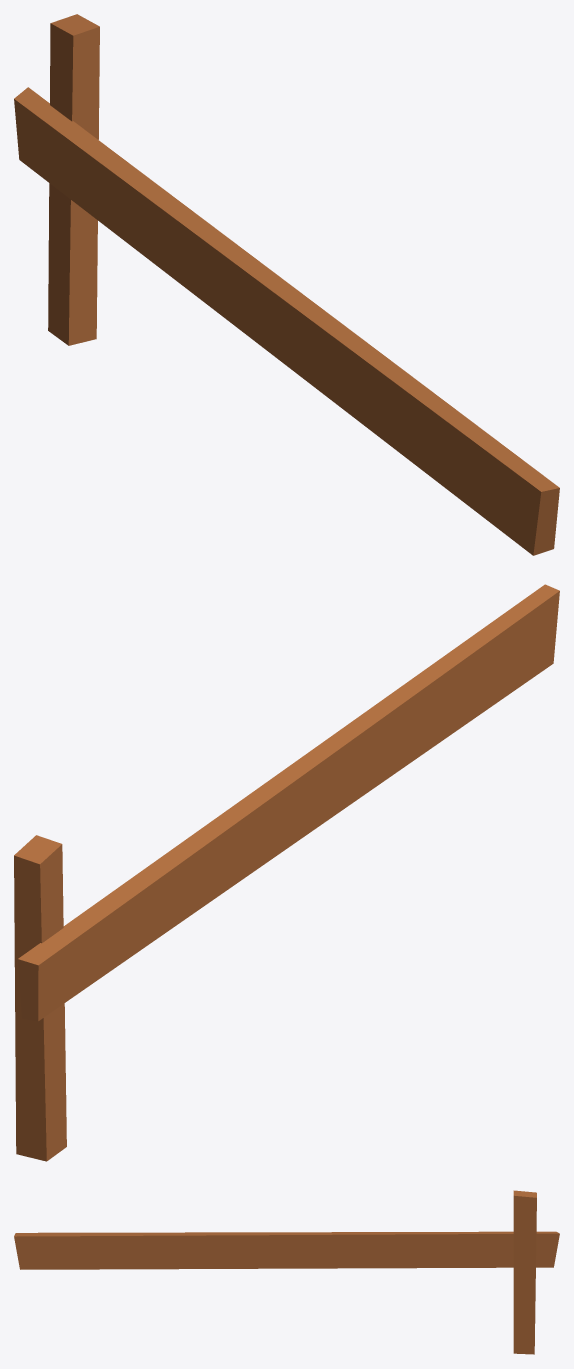
The model's file is woodfence02.fbx.
The picture shows the model from 3 angles, top to bottom: view 1: azimuth 30°, elevation 25°; view 2: azimuth 150°, elevation 25°; view 3: azimuth 270°, elevation 25°; orthographic projection. The views are drawn at different scales.
Parts seen in each view (by area): view 1: woodfence02; view 2: woodfence02; view 3: woodfence02.
Part boxes in pixels (box(x1,y1,x2,y2)): woodfence02: box(14, 14, 559, 555); woodfence02: box(14, 584, 559, 1161); woodfence02: box(14, 1190, 559, 1354).
Bounding box in the file's own units: 16.72 × 103 × 322.
